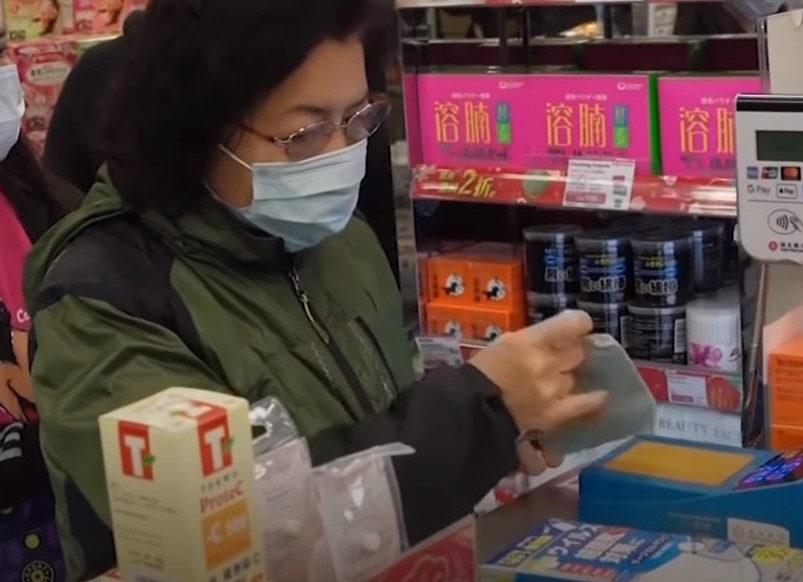face_with_mask: (173, 0, 395, 249)
